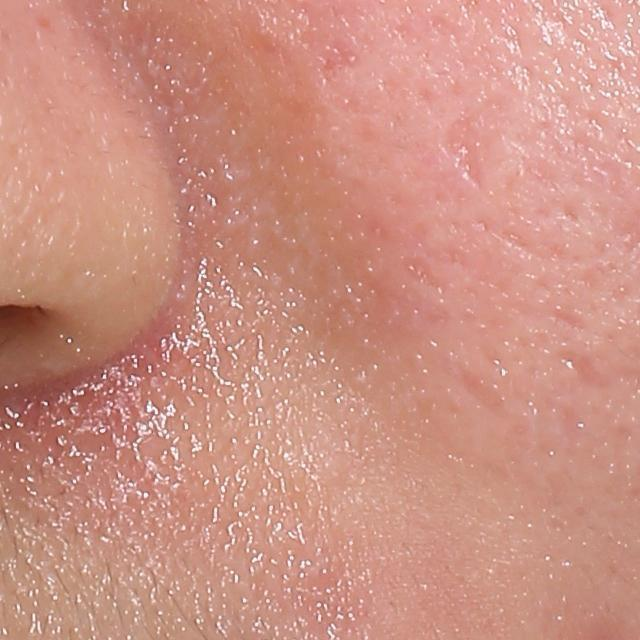atrophic_scar: (431, 91, 488, 195), (492, 224, 568, 268), (451, 364, 513, 416), (557, 349, 618, 388)
